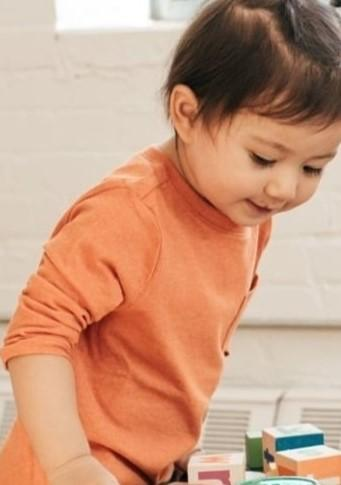Healthy: (169, 22, 341, 231)
